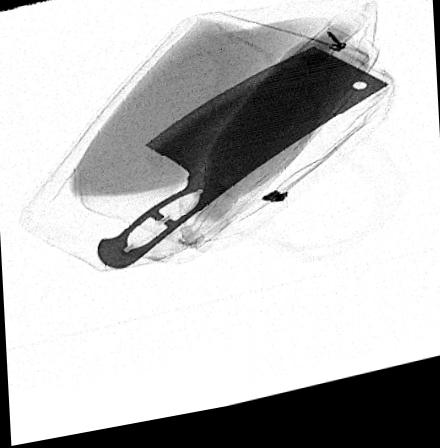Knife: (96, 57, 390, 275)
